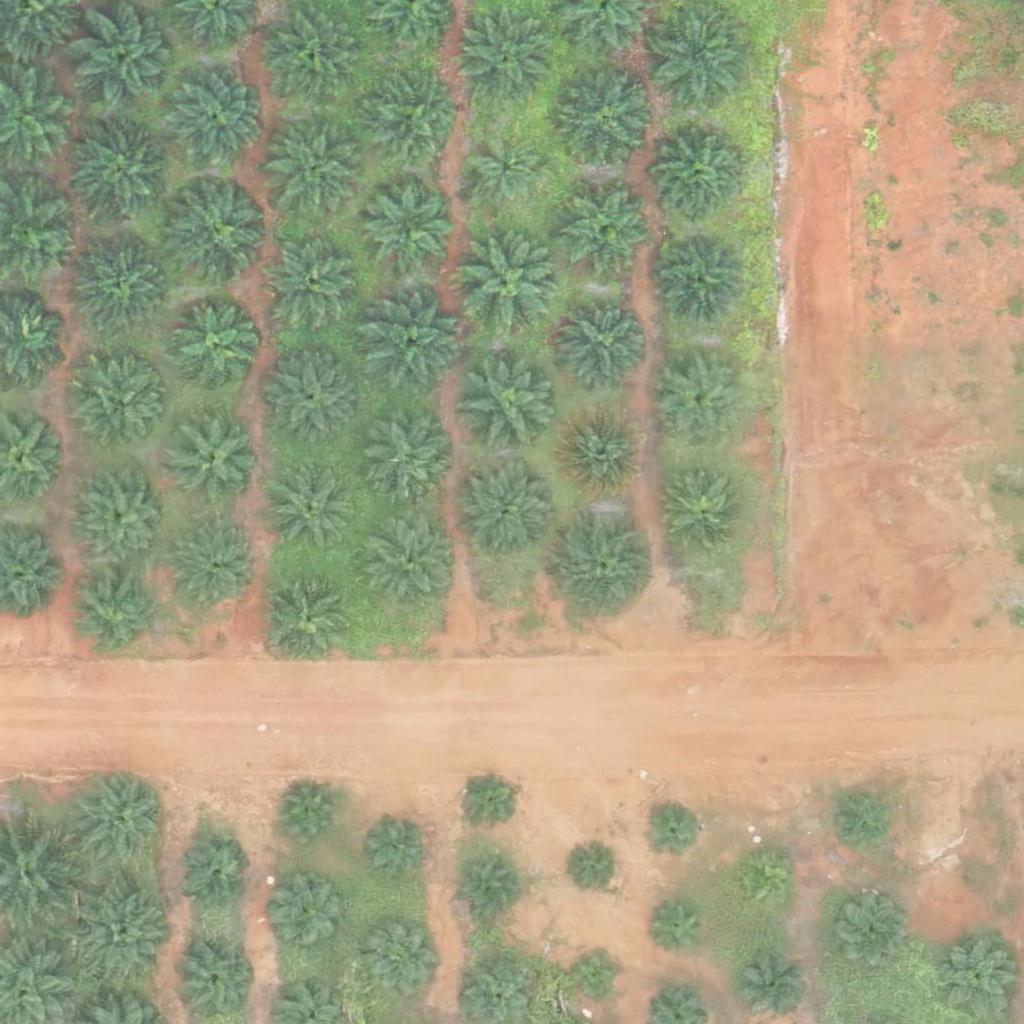Kelapa_Sawit: (462, 234, 562, 335), (363, 70, 463, 171), (361, 294, 461, 395), (265, 7, 365, 108), (264, 116, 364, 217), (263, 233, 363, 334), (261, 349, 361, 450), (164, 67, 264, 168), (169, 180, 269, 281), (72, 7, 172, 108), (70, 123, 170, 224), (72, 233, 172, 334), (358, 507, 458, 608), (460, 355, 560, 456), (458, 459, 558, 560), (557, 513, 657, 614), (647, 4, 747, 104), (554, 70, 654, 170), (457, 8, 557, 108), (74, 467, 174, 567), (69, 771, 169, 871), (73, 887, 173, 987), (564, 186, 652, 274), (558, 296, 646, 384), (171, 304, 259, 392), (171, 417, 259, 505), (173, 523, 261, 611), (269, 463, 357, 551), (266, 573, 354, 661), (558, 407, 646, 495), (663, 470, 751, 558), (657, 136, 744, 224), (658, 233, 745, 321), (657, 359, 744, 447), (366, 182, 453, 270), (77, 363, 164, 451), (74, 570, 161, 658), (373, 410, 460, 498), (469, 136, 544, 212), (831, 898, 906, 974), (174, 836, 249, 912), (940, 939, 1015, 1015), (272, 878, 347, 953), (365, 920, 440, 995), (457, 768, 520, 831), (458, 857, 521, 920), (732, 852, 795, 915), (824, 790, 887, 853), (277, 784, 339, 847), (367, 817, 429, 880), (642, 799, 704, 862), (646, 899, 708, 962), (572, 843, 622, 894), (571, 949, 621, 1000)
